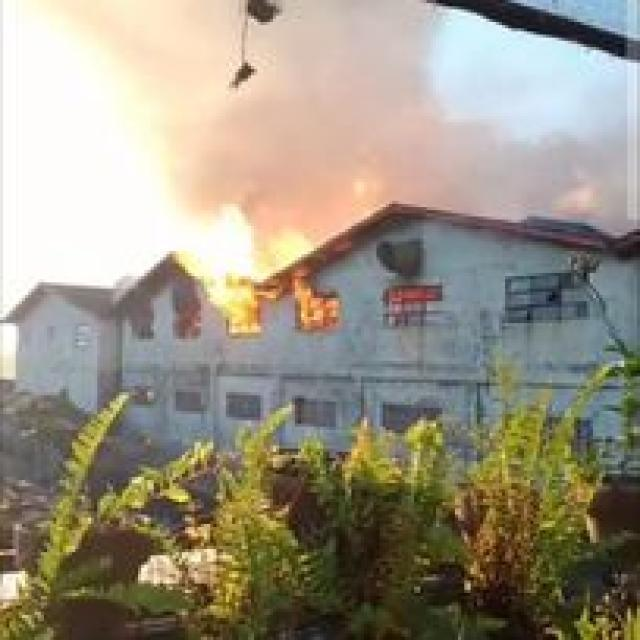Fire: (134, 192, 352, 336)
Smoke: (49, 2, 640, 255)
